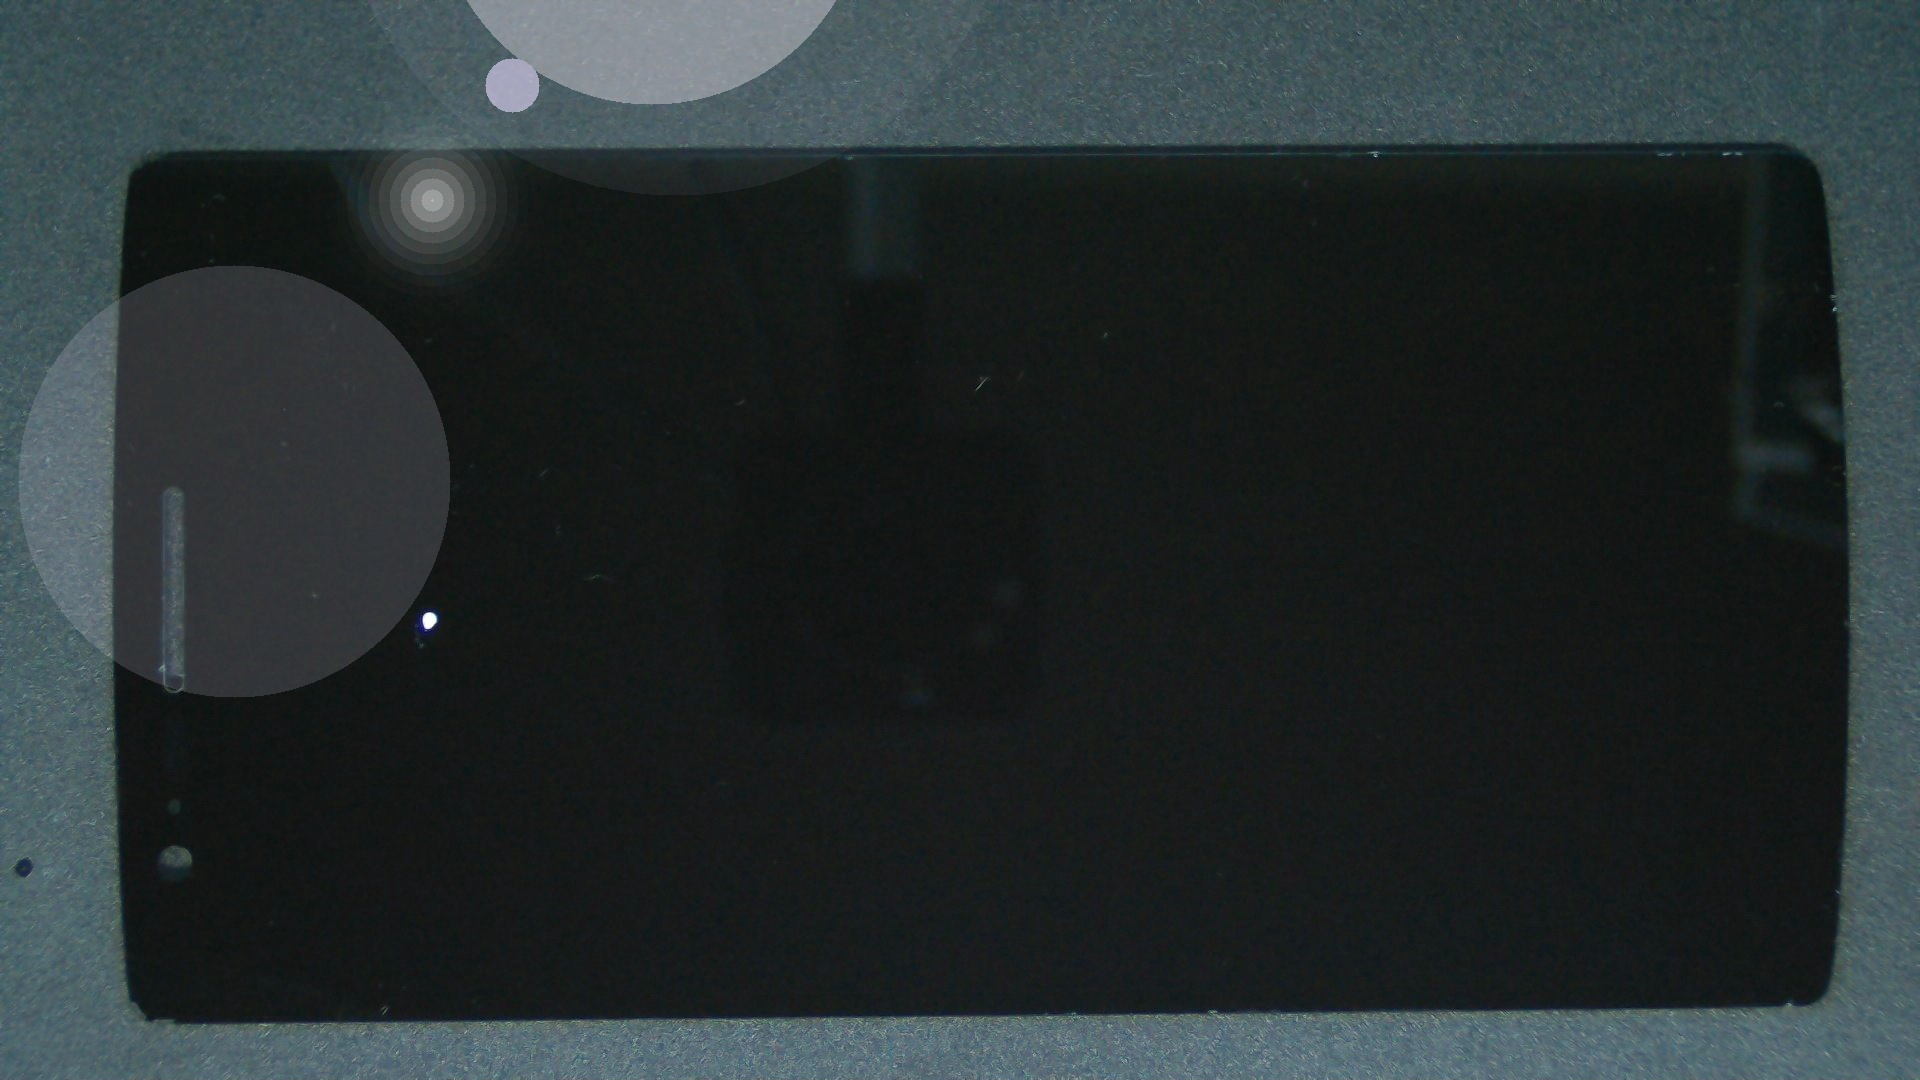oil: (215, 303, 636, 919)
